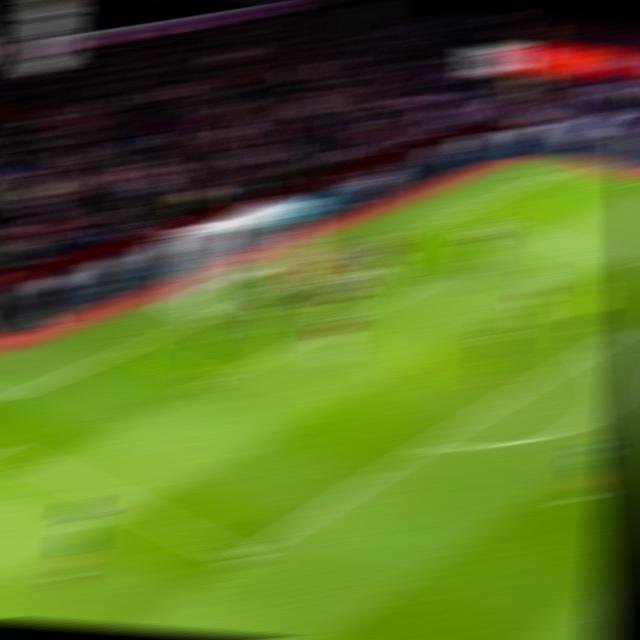bigarea_bottom_inner: (220, 542, 264, 576)
bigarea_top_outter: (443, 204, 476, 222)
bottom_arc_area_intersection: (408, 432, 448, 457)
corner: (549, 160, 591, 176)
smallarea_bottom_inner: (195, 366, 236, 391)
smallarea_bottom_outter: (115, 334, 154, 358)
smallarea_top_inner: (413, 270, 448, 290)
smallarea_top_outter: (341, 248, 374, 262)
top_arc_area_intersection: (577, 337, 615, 358)
